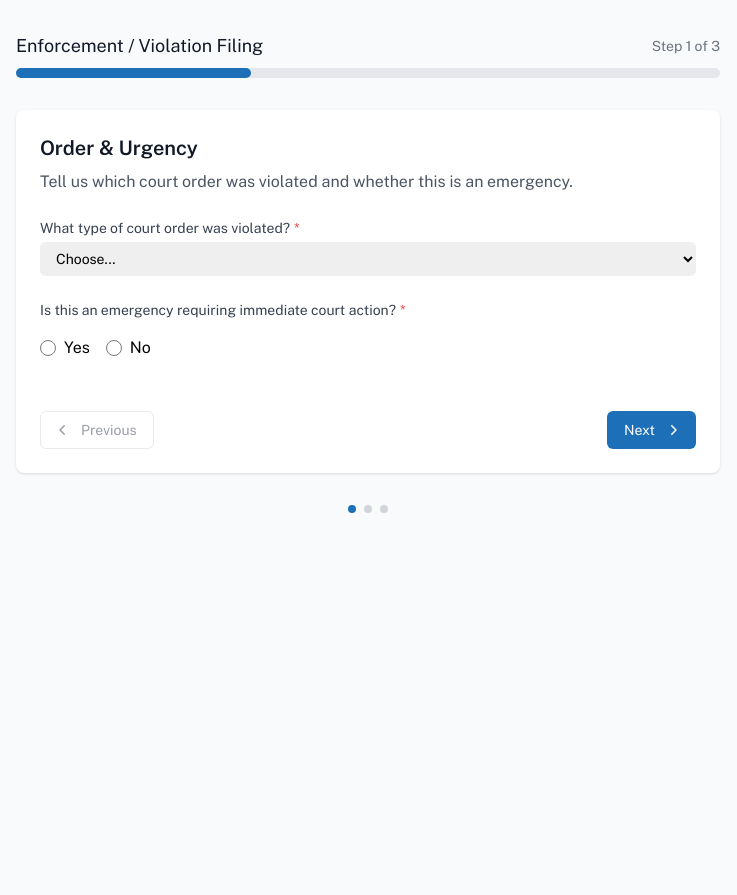
Scenario: ViolationIntake result screen › result screen lists required forms
Expected: the heading "Order & Urgency" is shown, [40,136,198,160]
Click the button "Next".
click(652, 430)  # box [607,411,696,449]
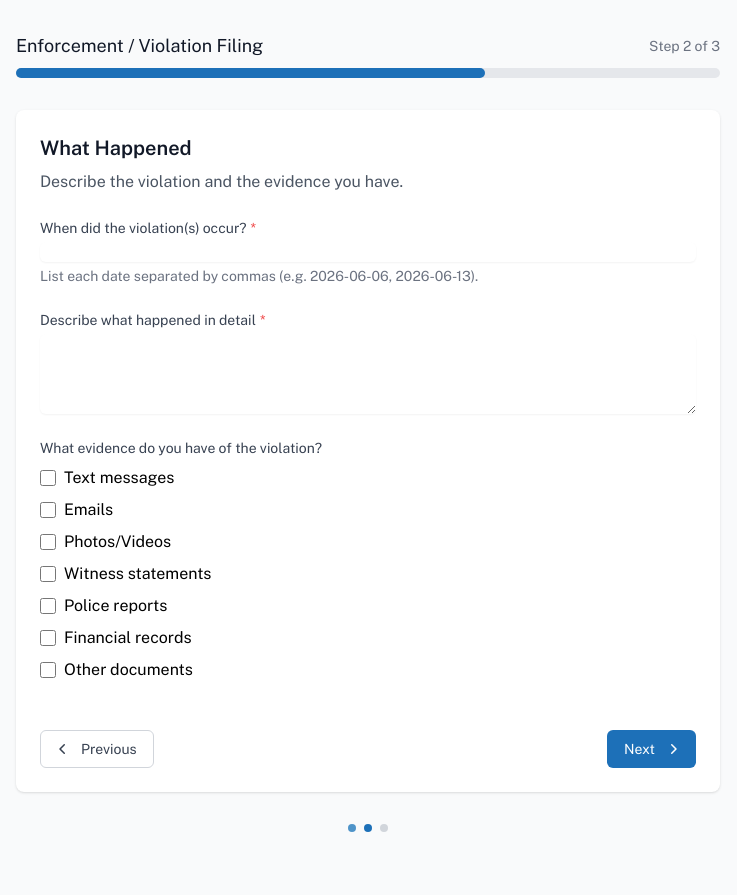
Now the heading "What Happened" is shown, box [40,136,192,160]
Click the button "Next".
click(652, 749)  # box [607,730,696,768]
(page scrolled)
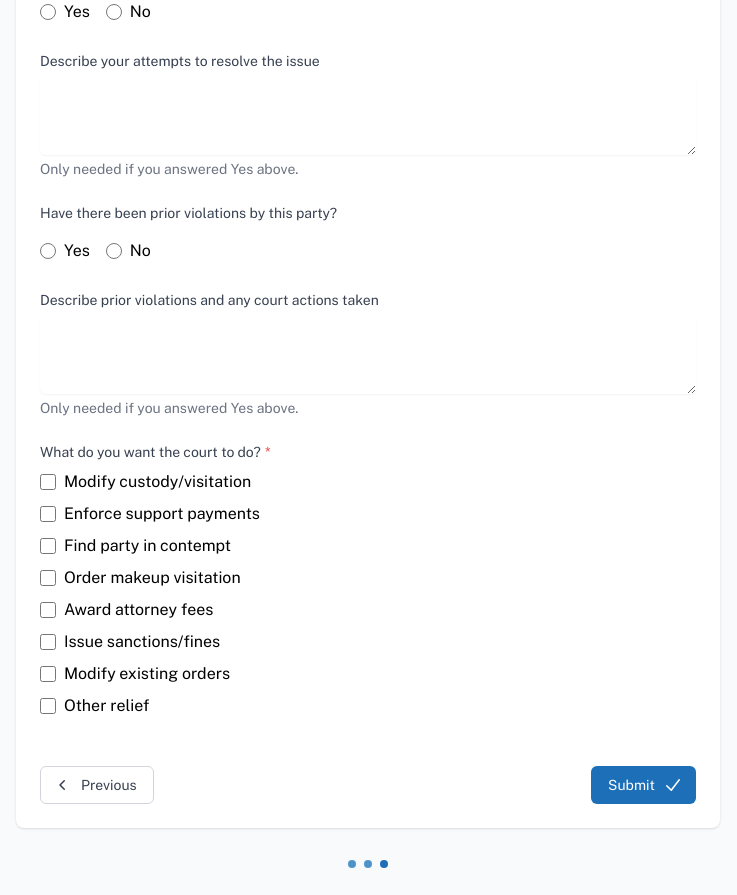
Now the button "Submit" is shown
Click the button "Submit".
click(644, 785)  # box [591,766,696,804]
(page scrolled)
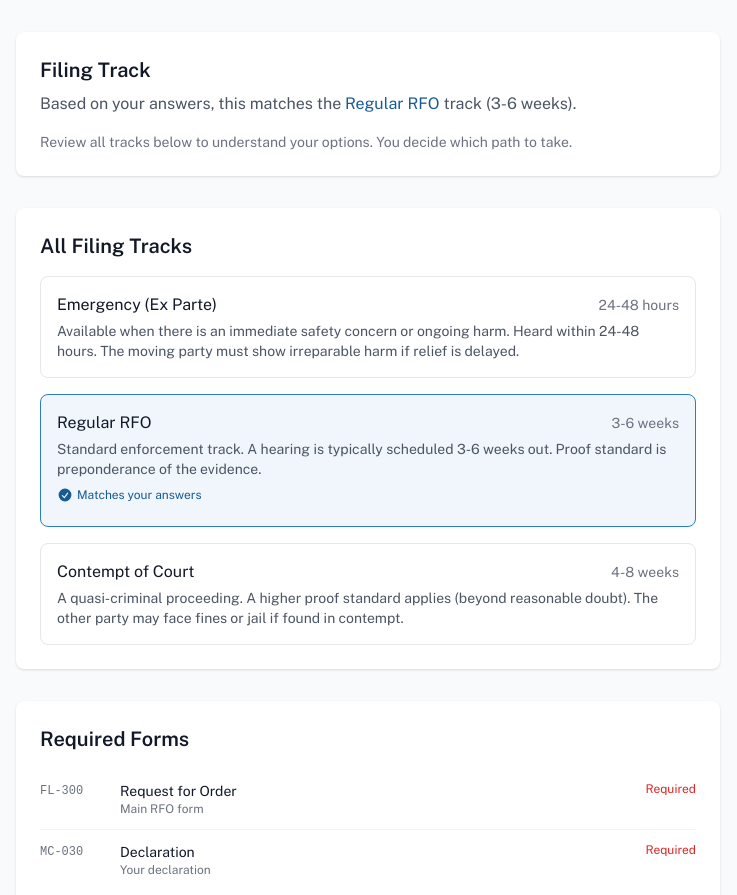
Now the text "Based on your answers, this matches the" is shown, box [40,94,341,113]
Now the text "Request for Order" is shown, box [120,781,237,801]
Now the text "Declaration" is shown, box [120,844,195,860]
